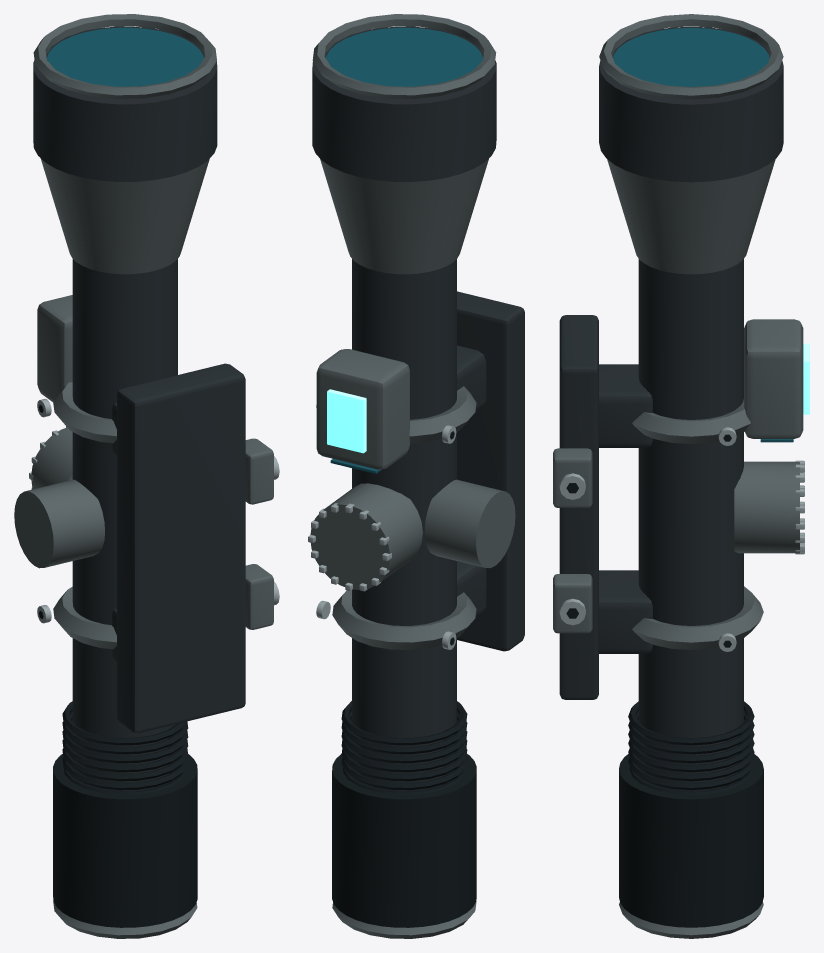
File: scope-3.glb
The picture shows the model from 3 angles, left to right: view 1: azimuth 30°, elevation 25°; view 2: azimuth 150°, elevation 25°; view 3: azimuth 270°, elevation 25°; orthographic projection.
Parts seen in each view (by area): view 1: 02_Graphite.020, 01_Cerakote.018, 04_Elastomer.020, 06_OpticalGlass.005, 03_Titanium.020; view 2: 02_Graphite.020, 01_Cerakote.018, 04_Elastomer.020, 06_OpticalGlass.005, 07_Indicator.005, 03_Titanium.020; view 3: 02_Graphite.020, 01_Cerakote.018, 04_Elastomer.020, 06_OpticalGlass.005, 03_Titanium.020.
Boxes of the visible parts, x1,y1,x2,y2 form: 02_Graphite.020: (33, 26, 245, 790); 01_Cerakote.018: (14, 14, 273, 938); 04_Elastomer.020: (38, 404, 197, 927); 06_OpticalGlass.005: (46, 27, 203, 86); 03_Titanium.020: (29, 399, 279, 623); 02_Graphite.020: (312, 26, 524, 790); 01_Cerakote.018: (310, 14, 515, 938); 04_Elastomer.020: (332, 431, 476, 927); 06_OpticalGlass.005: (326, 27, 483, 473); 07_Indicator.005: (327, 389, 366, 453); 03_Titanium.020: (308, 405, 456, 649); 02_Graphite.020: (559, 26, 783, 790); 01_Cerakote.018: (553, 14, 803, 938); 04_Elastomer.020: (566, 434, 763, 927); 06_OpticalGlass.005: (613, 27, 793, 442); 03_Titanium.020: (559, 427, 804, 651).
Bounding box in the file's own units: 0.0569 × 0.259 × 0.0702.
